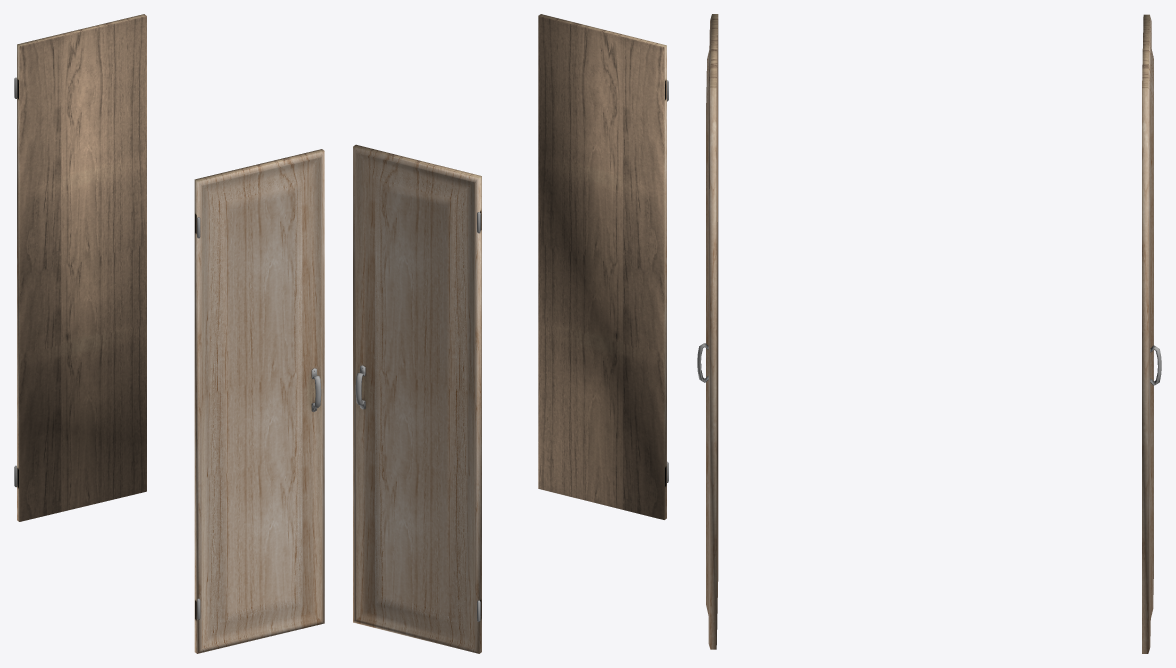
Rendered from doors.obj.
The picture shows the model from 3 angles, left to right: view 1: azimuth 30°, elevation 25°; view 2: azimuth 150°, elevation 25°; view 3: azimuth 270°, elevation 25°; orthographic projection. The views are drawn at different scales.
Visible parts, largest first — view 1: 2ndFlr_DisplayCase_DoorLeft; view 2: 2ndFlr_DisplayCase_DoorLeft; view 3: 2ndFlr_DisplayCase_DoorLeft.
Boxes of the visible parts, left/top/right/bottom form: 2ndFlr_DisplayCase_DoorLeft: left=14, top=14, right=324, bottom=653; 2ndFlr_DisplayCase_DoorLeft: left=353, top=14, right=668, bottom=653; 2ndFlr_DisplayCase_DoorLeft: left=697, top=14, right=1161, bottom=653.
Bounding box in the file's own units: 31.65 × 110 × 81.49.
